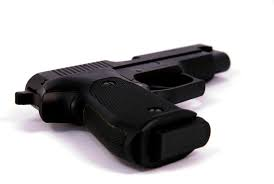gun: (14, 42, 232, 170)
